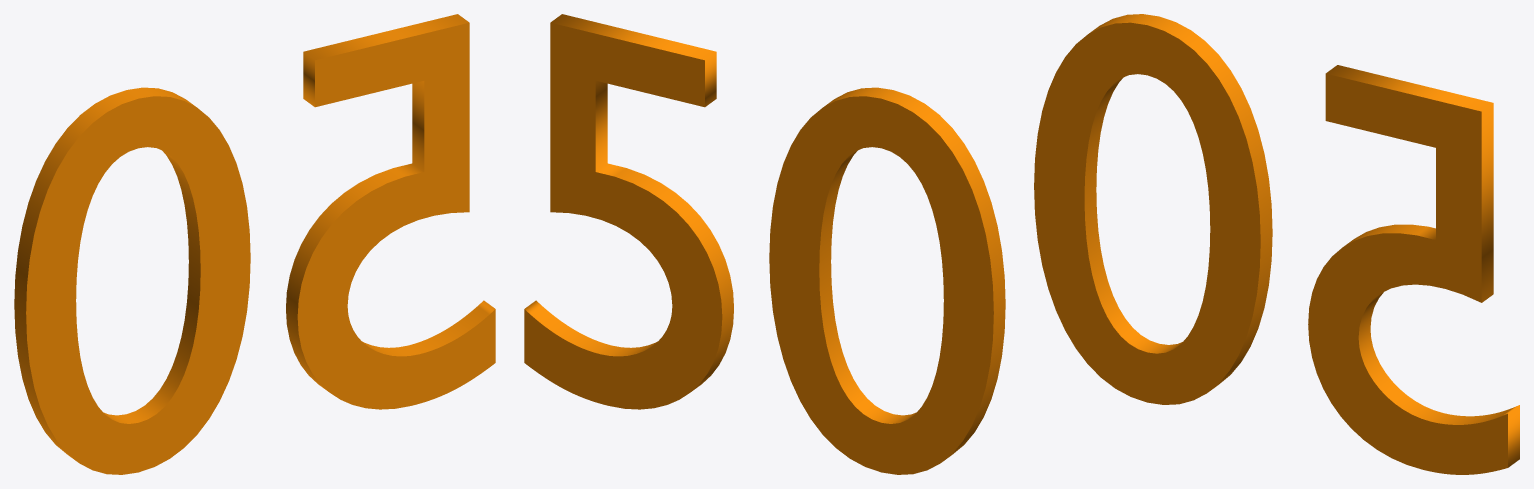
File: score50.glb
The picture shows the model from 3 angles, left to right: view 1: azimuth 30°, elevation 25°; view 2: azimuth 150°, elevation 25°; view 3: azimuth 330°, elevation 25°; orthographic projection.
Parts seen in each view (by area): view 1: テキスト; view 2: テキスト; view 3: テキスト.
Part boxes in pixels (<box>): テキスト: <box>14,14,495,474</box>; テキスト: <box>524,14,1005,474</box>; テキスト: <box>1034,14,1519,474</box>.
Size of the model in its own units: 0.92 by 0.7 by 0.04.
